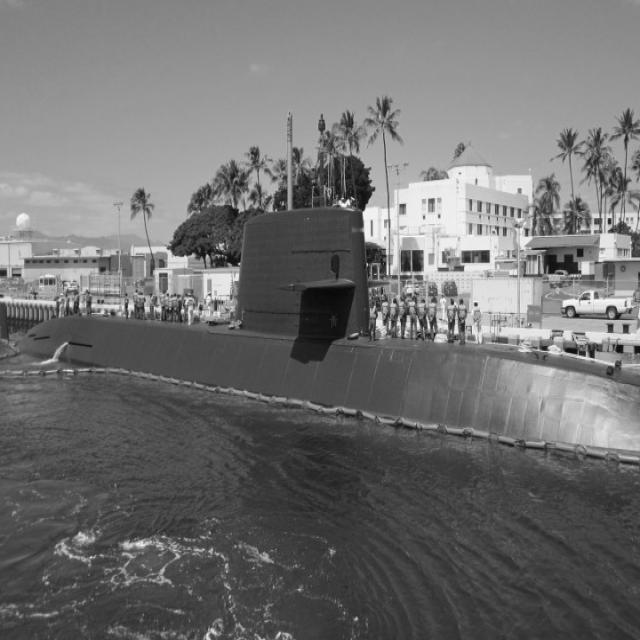submarine: (1, 111, 640, 473)
